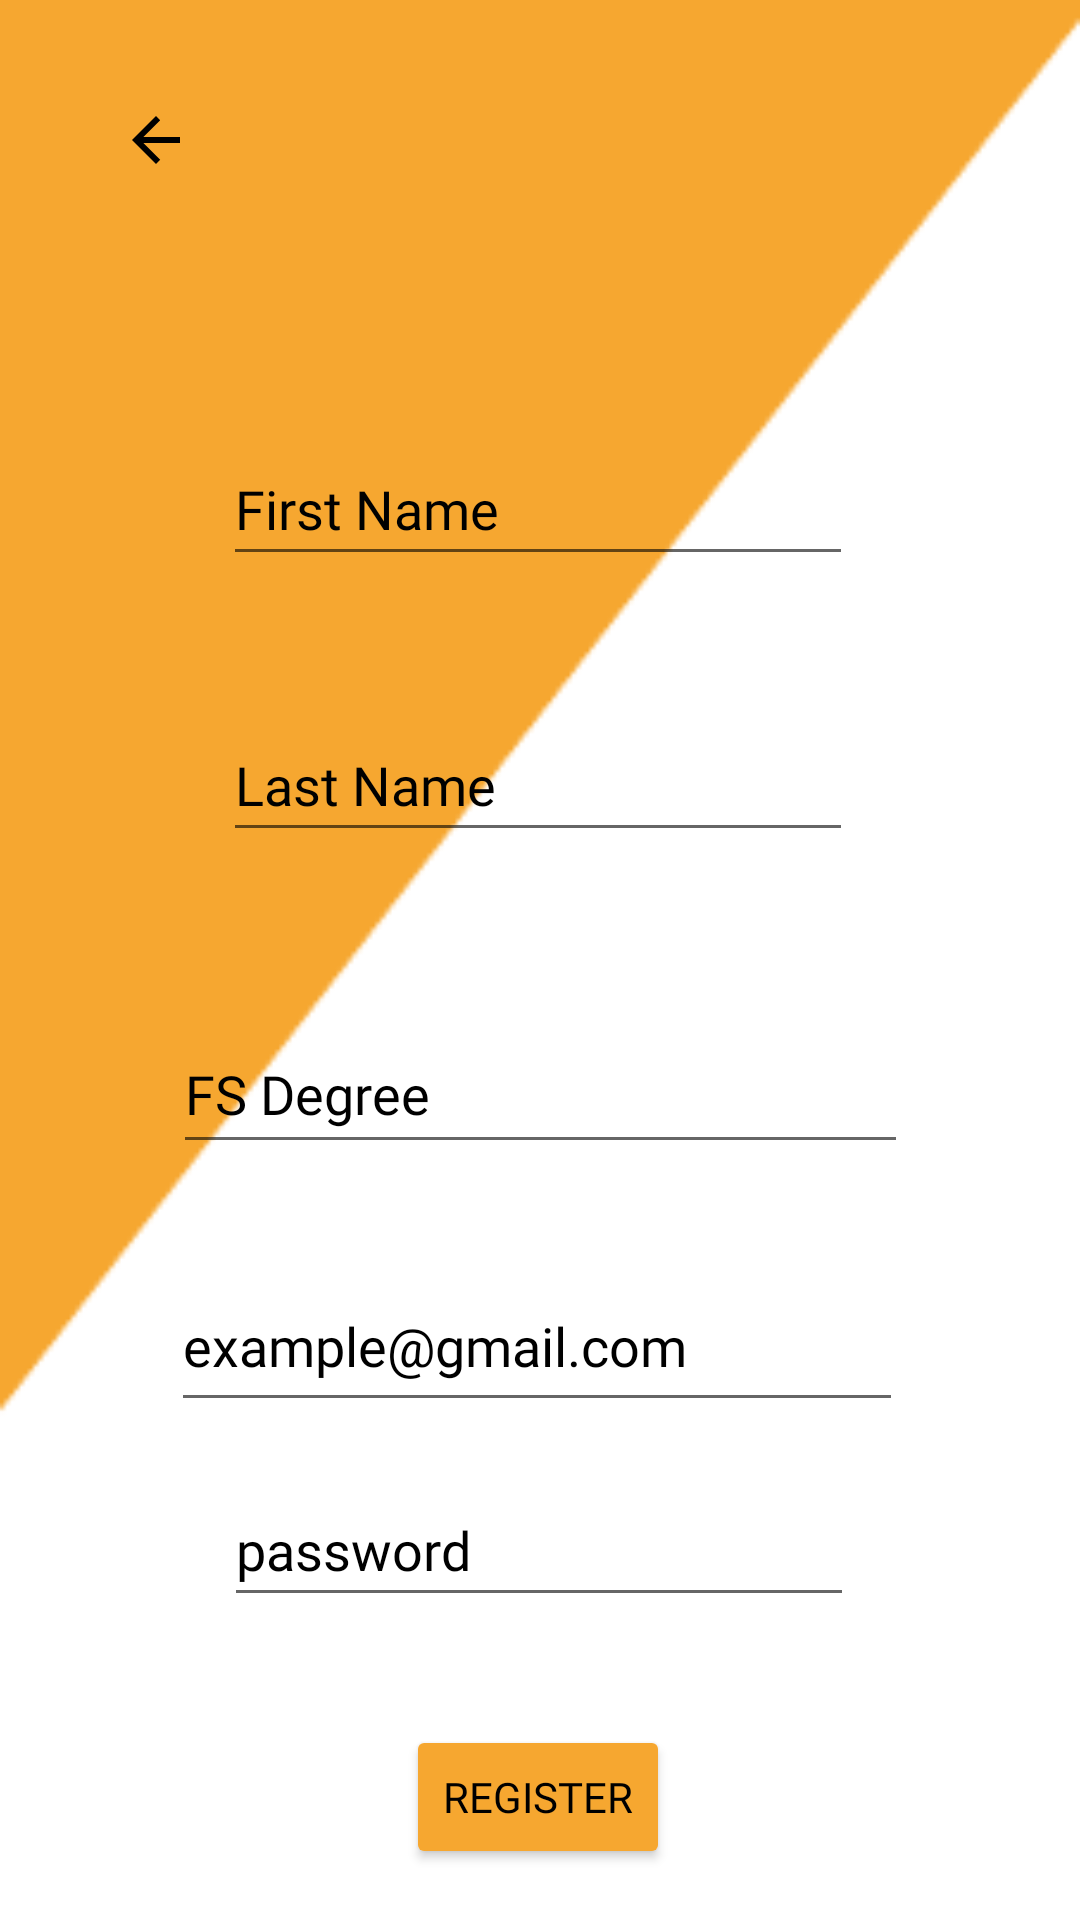

Screen size 1080px×1920px. Icon name, then its center in pixels as point (x, y):
back: point (156, 140)
